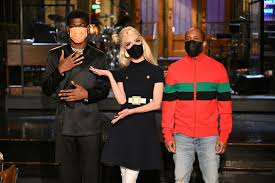mask: (185, 40, 203, 57), (69, 27, 87, 43), (127, 44, 143, 58)
